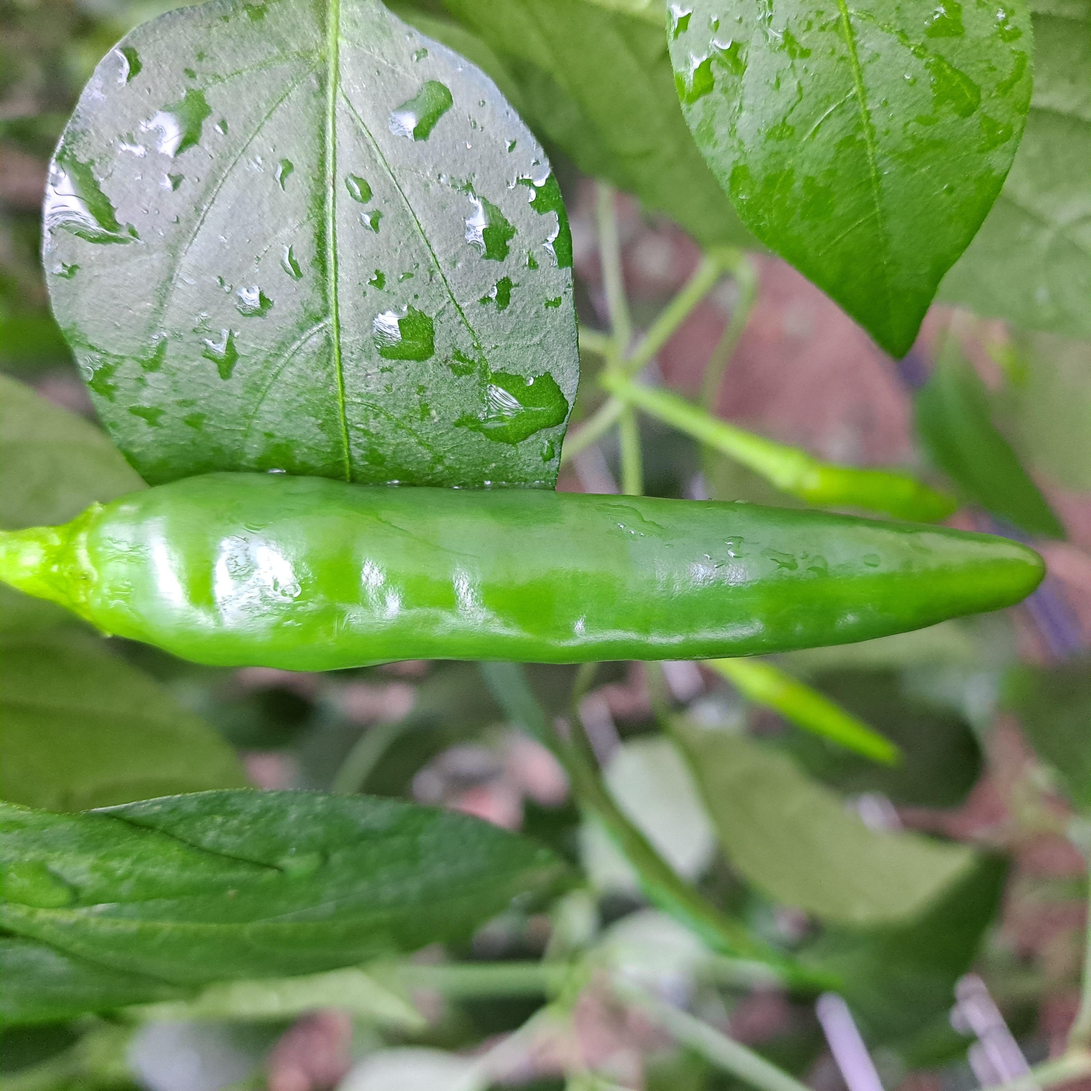Buah Cabai Sehat: (2, 468, 1048, 673)
Daun Cabai Sehat: (38, 1, 584, 492), (0, 781, 569, 1042), (657, 0, 1043, 371)
